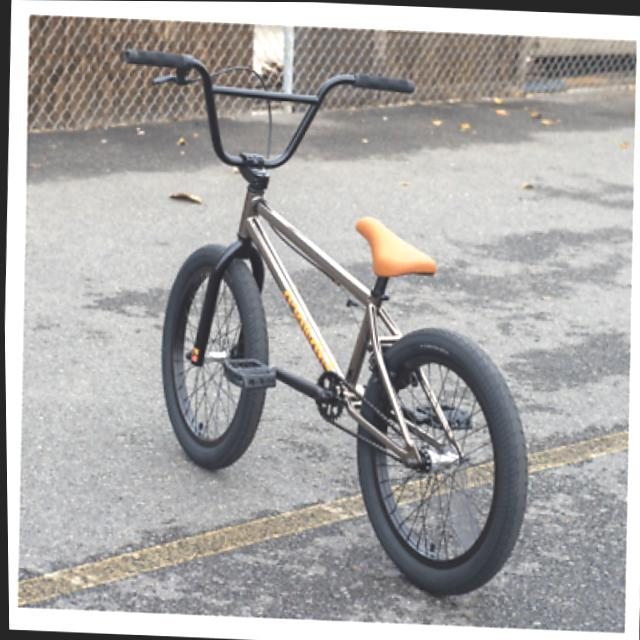bmx-bike: (101, 47, 544, 600)
